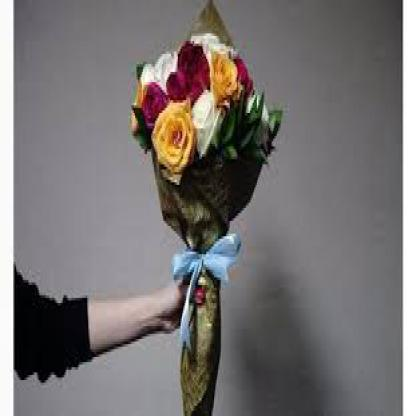Rose-Mawar: (128, 24, 267, 163)
